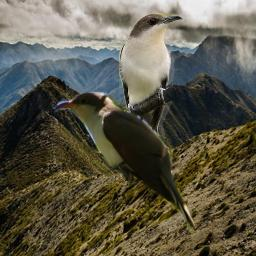Cuckoo: (52, 92, 195, 234), (119, 13, 183, 164)
